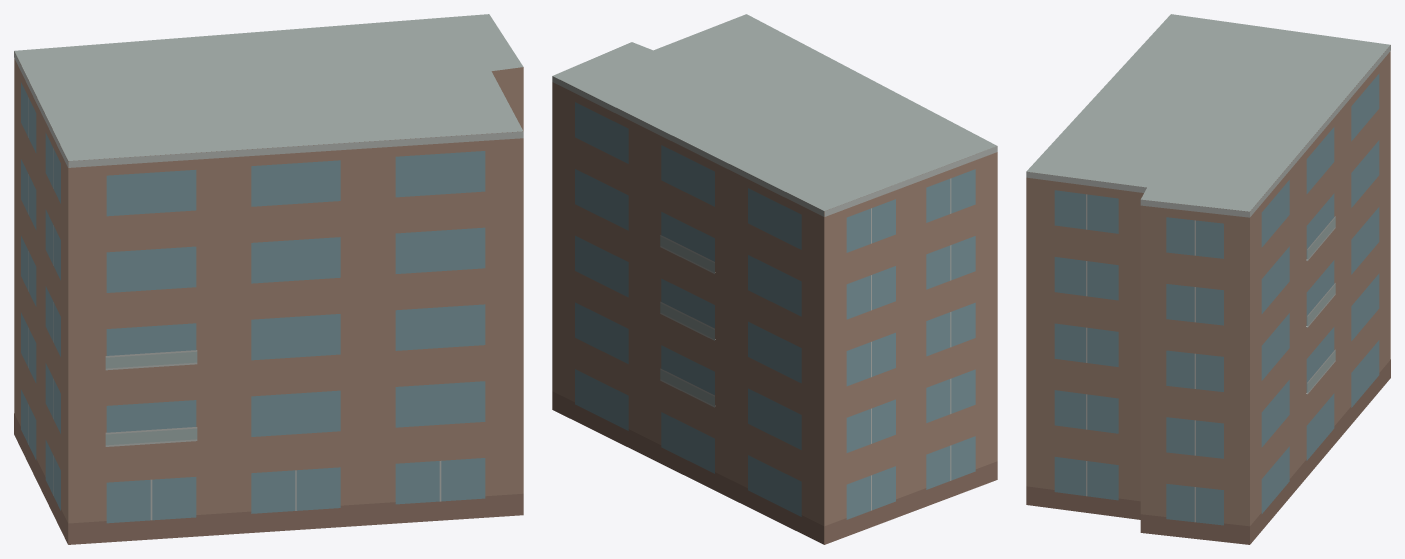
The model's file is survey-upis-32893676.glb.
3 views of the same model, side by side, from view 1: azimuth 30°, elevation 25°; view 2: azimuth 150°, elevation 25°; view 3: azimuth 270°, elevation 25° (orthographic). The views are drawn at different scales.
Parts seen in each view (by area): view 1: survey-upis-32893676.tmp; view 2: survey-upis-32893676.tmp; view 3: survey-upis-32893676.tmp.
Part boxes in pixels (box(x1,y1,x2,y2)): survey-upis-32893676.tmp: box(14, 14, 523, 544); survey-upis-32893676.tmp: box(552, 14, 997, 544); survey-upis-32893676.tmp: box(1026, 14, 1390, 544).
Bounding box in the file's own units: 17.31 × 13.6 × 13.49.
